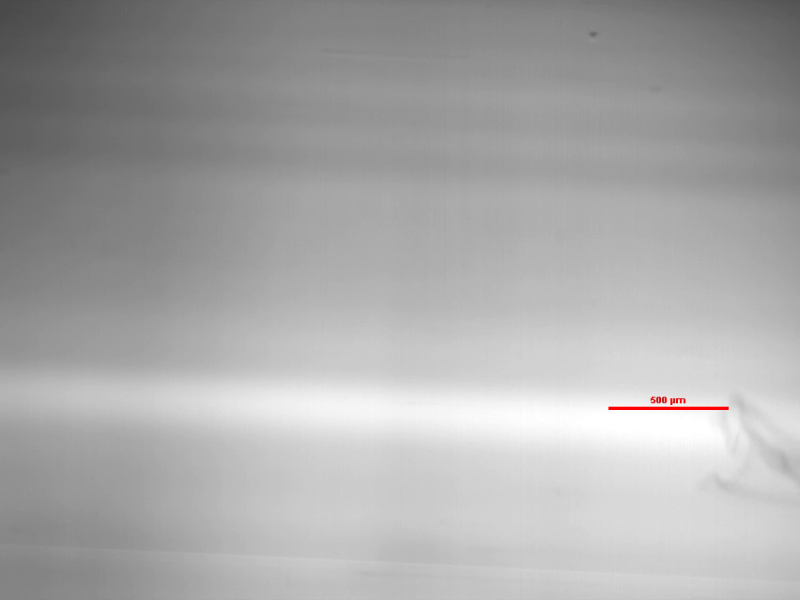bead: (248, 247, 602, 552), (1, 37, 297, 350), (638, 510, 800, 599)
